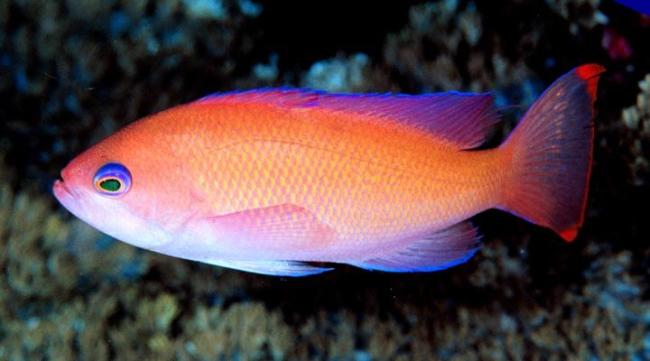fish: (52, 64, 606, 278)
